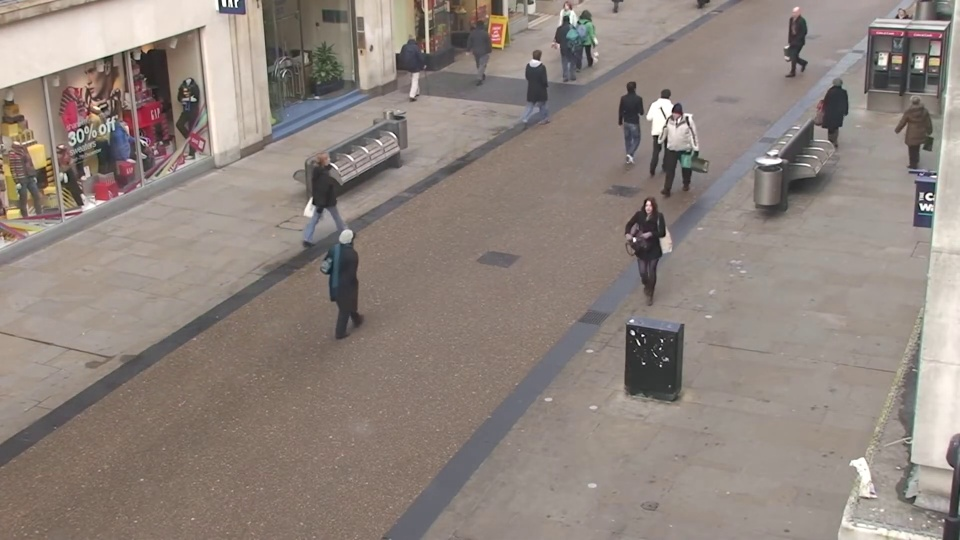pedestrian: (338, 219, 382, 342), (625, 195, 663, 313), (886, 90, 928, 183), (321, 142, 358, 245), (815, 73, 850, 159), (655, 107, 686, 200), (876, 6, 911, 79), (654, 80, 683, 167), (622, 75, 650, 160), (531, 43, 557, 119), (401, 28, 427, 99), (774, 5, 801, 73), (471, 15, 495, 82), (557, 11, 580, 78), (579, 5, 601, 71), (553, 1, 575, 65)
